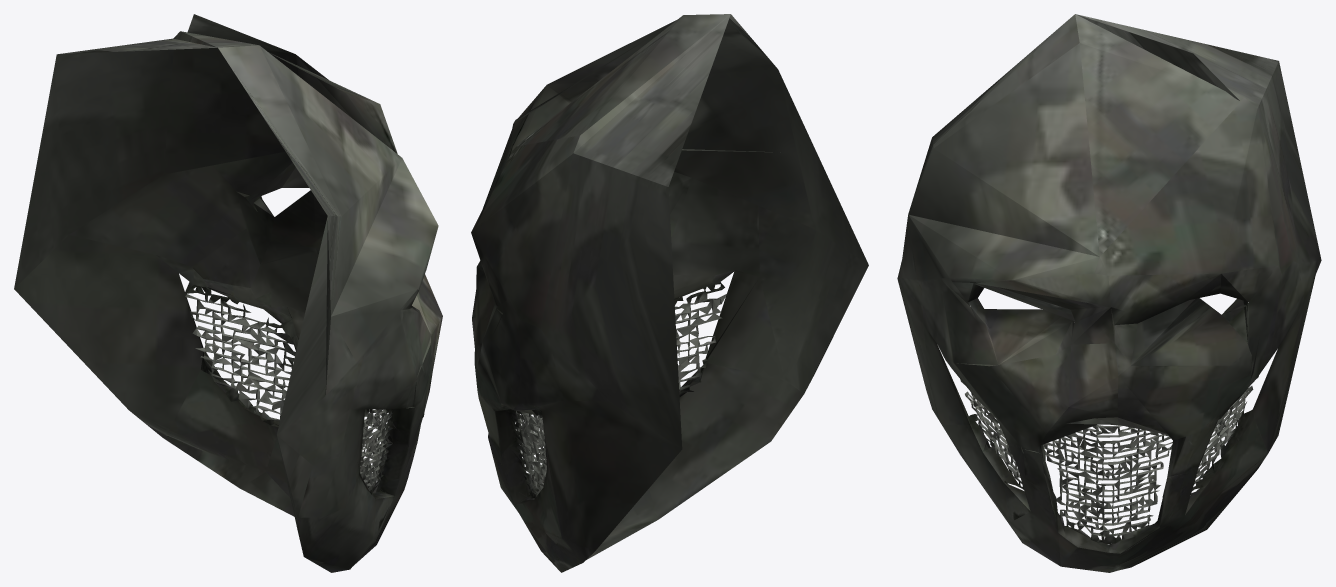
Rendered from mascara_camuflada.glb.
3 renders of one model, left to right at view 1: azimuth 30°, elevation 25°; view 2: azimuth 150°, elevation 25°; view 3: azimuth 270°, elevation 25°, orthographic. The views are drawn at different scales.
Visible parts, largest first — view 1: tripo_node_f43ce186-9549-42c6-99a2-10bcf49e2bf3; view 2: tripo_node_f43ce186-9549-42c6-99a2-10bcf49e2bf3; view 3: tripo_node_f43ce186-9549-42c6-99a2-10bcf49e2bf3.
Part boxes in pixels (<box>): tripo_node_f43ce186-9549-42c6-99a2-10bcf49e2bf3: <box>14,14,442,572</box>; tripo_node_f43ce186-9549-42c6-99a2-10bcf49e2bf3: <box>471,14,868,572</box>; tripo_node_f43ce186-9549-42c6-99a2-10bcf49e2bf3: <box>897,14,1321,572</box>.
Size of the model in its own units: 0.572 by 0.9731 by 0.7448.
1 material, 1 textured.
